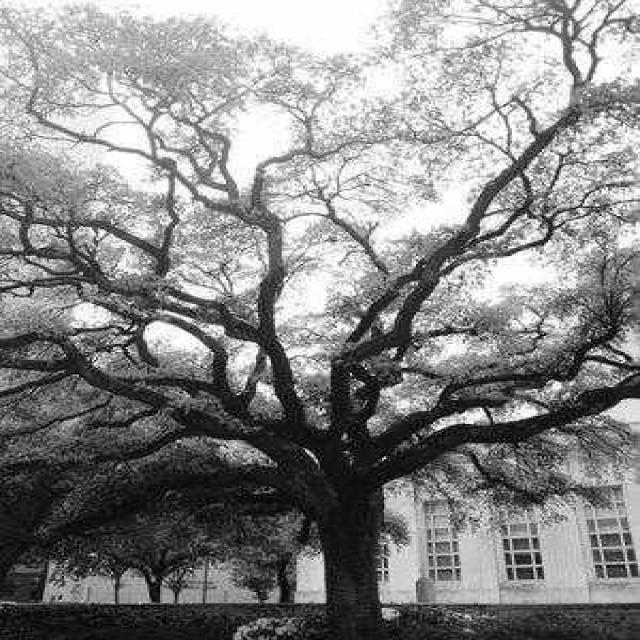Tree: (3, 0, 638, 639)
